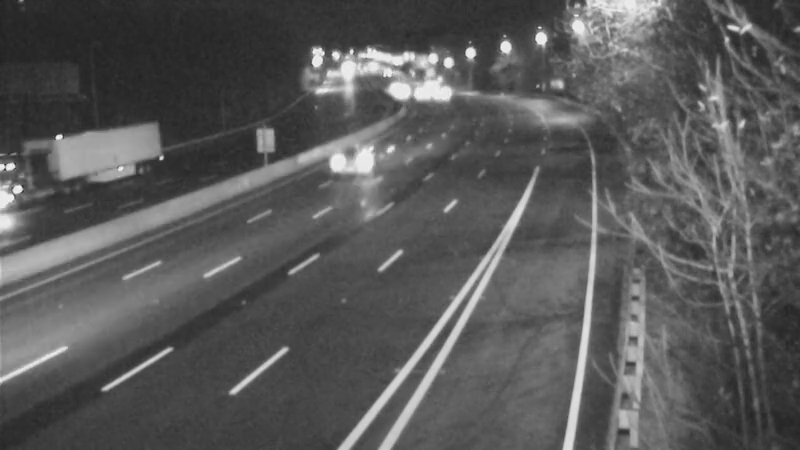vehicle: (320, 118, 400, 198), (2, 133, 82, 213), (378, 66, 428, 116), (415, 68, 465, 118), (394, 70, 444, 120)
